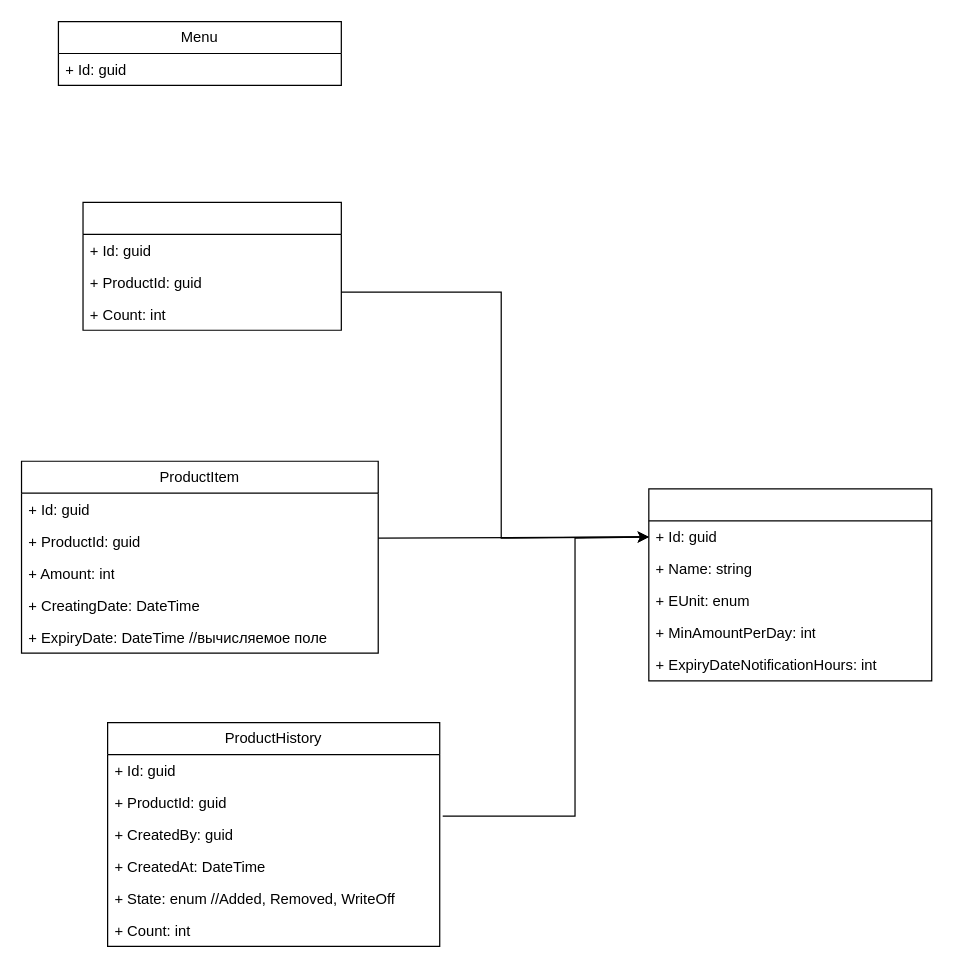
The diagram is 953 pixels wide and 972 high, and some of its shapes have lost their labels. Each missing label, with the box of its shape:
Product: (648, 488, 932, 681)
Recept: (82, 201, 341, 330)
